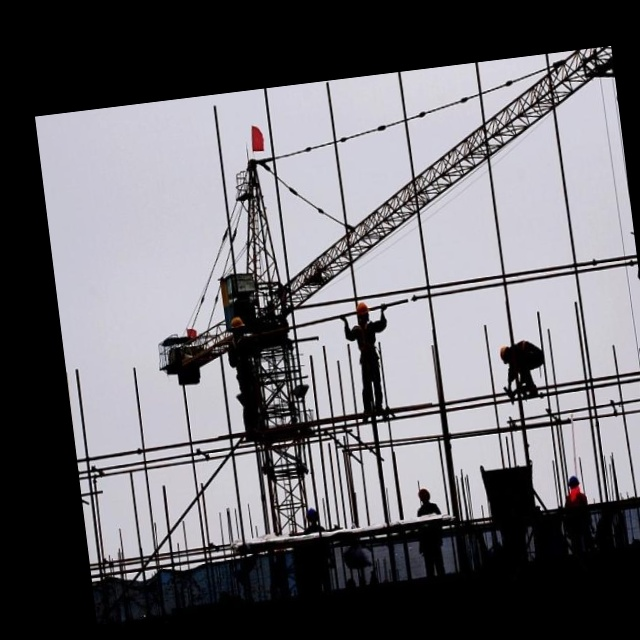Con_Casco: (354, 302, 370, 324)
